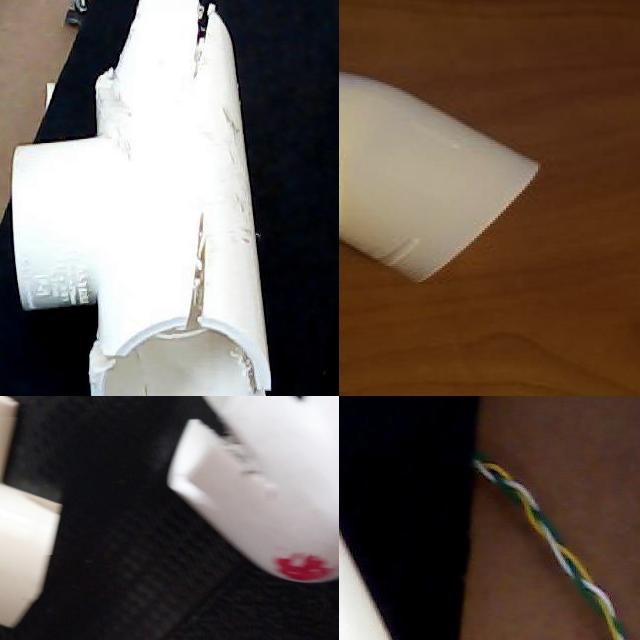Defective: (69, 291, 159, 395), (172, 180, 228, 340), (93, 0, 152, 122), (182, 0, 222, 114), (230, 327, 271, 396), (0, 586, 44, 640)
L Joint: (339, 72, 541, 284)
T Joint: (9, 0, 277, 396)
